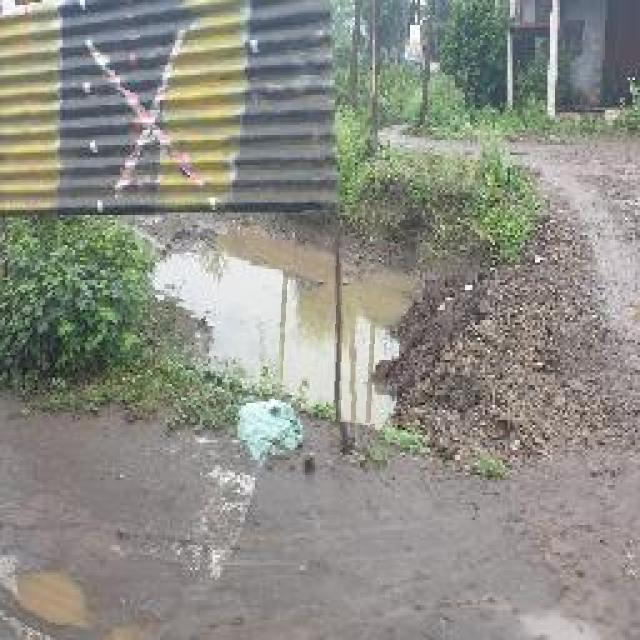puddle: (161, 223, 415, 423)
